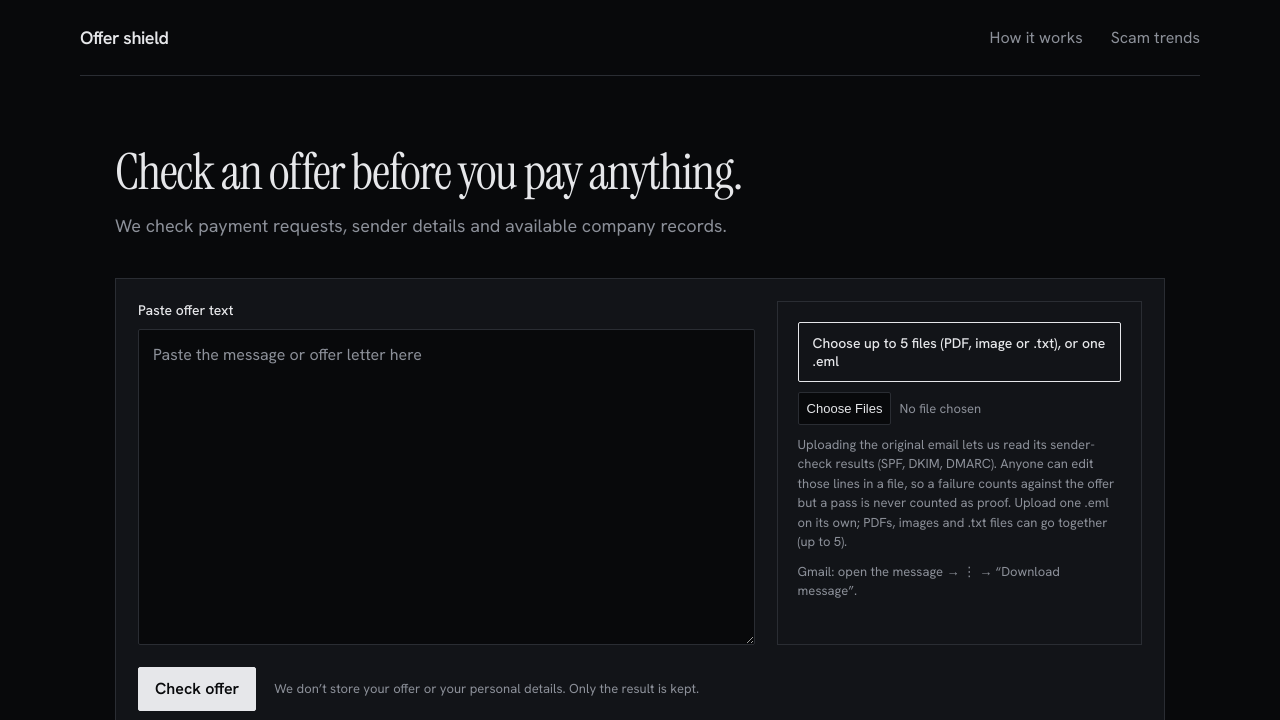
Scenario: analysis result › renders matched safety actions with urgent styling and recovery links
Type "Test offer text" into the text box labelled "Paste offer text" at (446, 487), box [138,329,755,645]
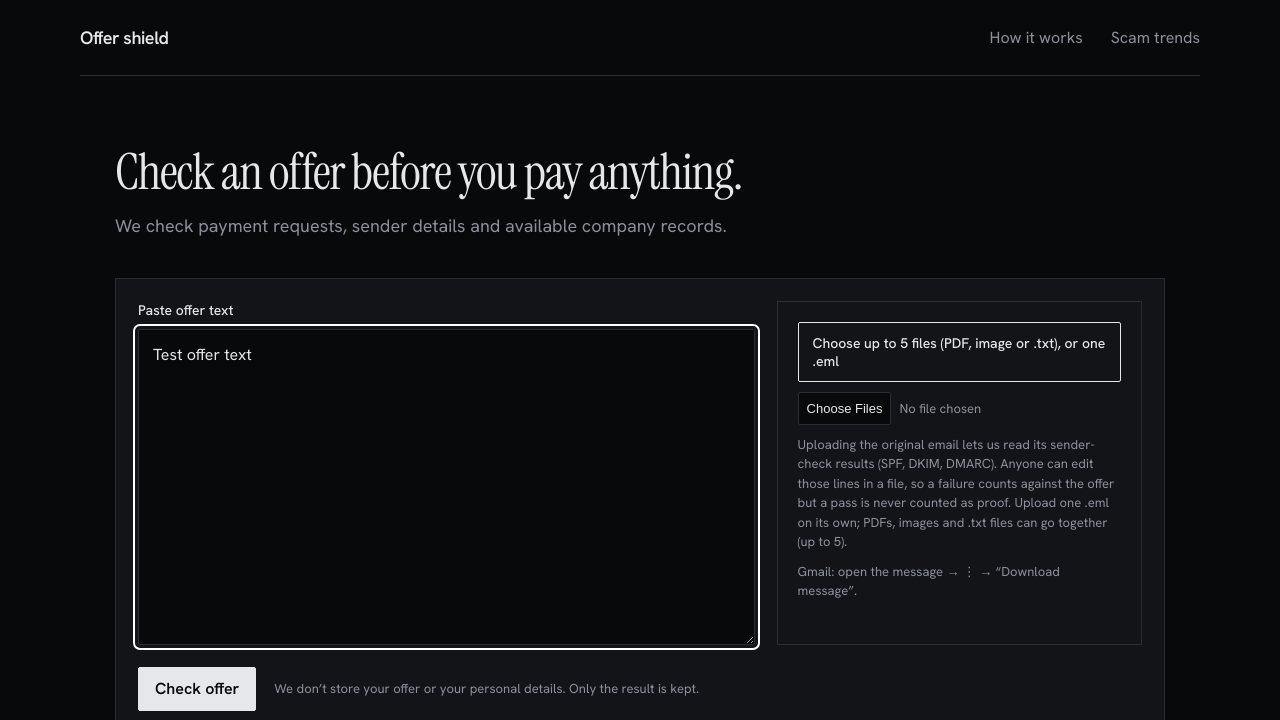
Click the button "Check offer" at (197, 689), box [138,667,256,711]
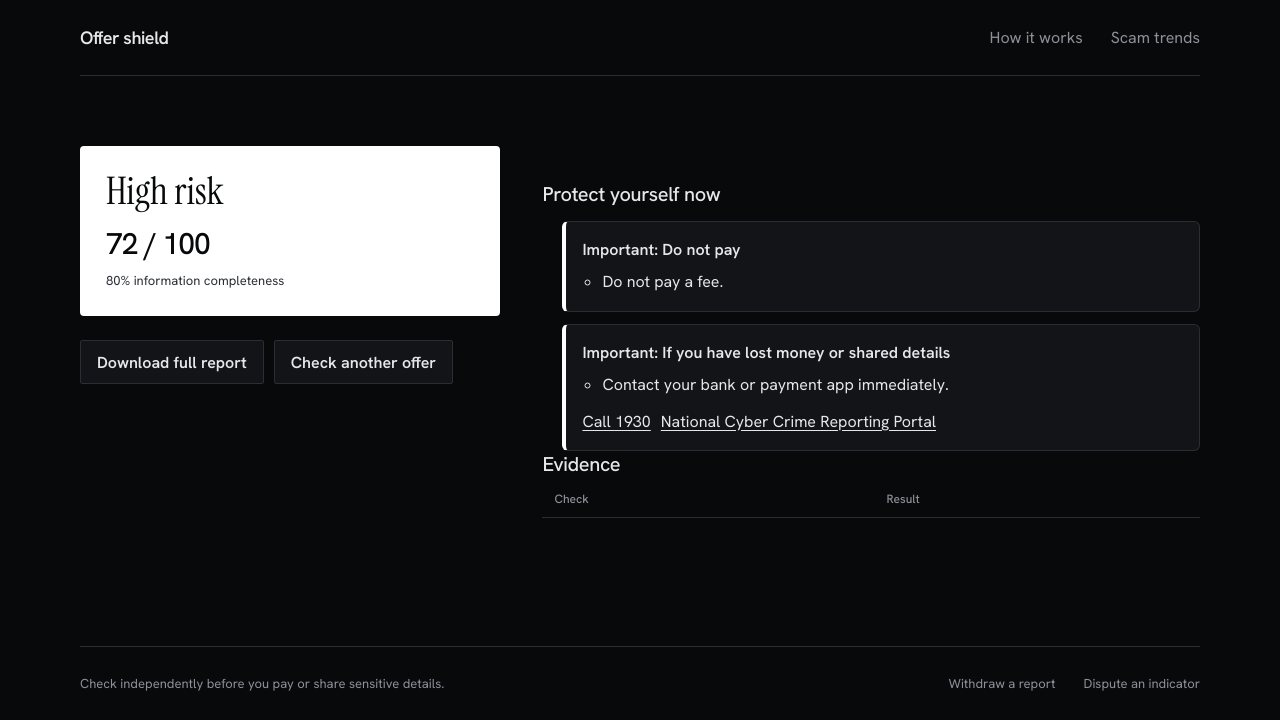
Check: the text "Important: Do not pay" is shown, box [582,239,741,260]
Check: the list item "Contact your bank or payment app immediately." is shown, box [602,374,949,395]
